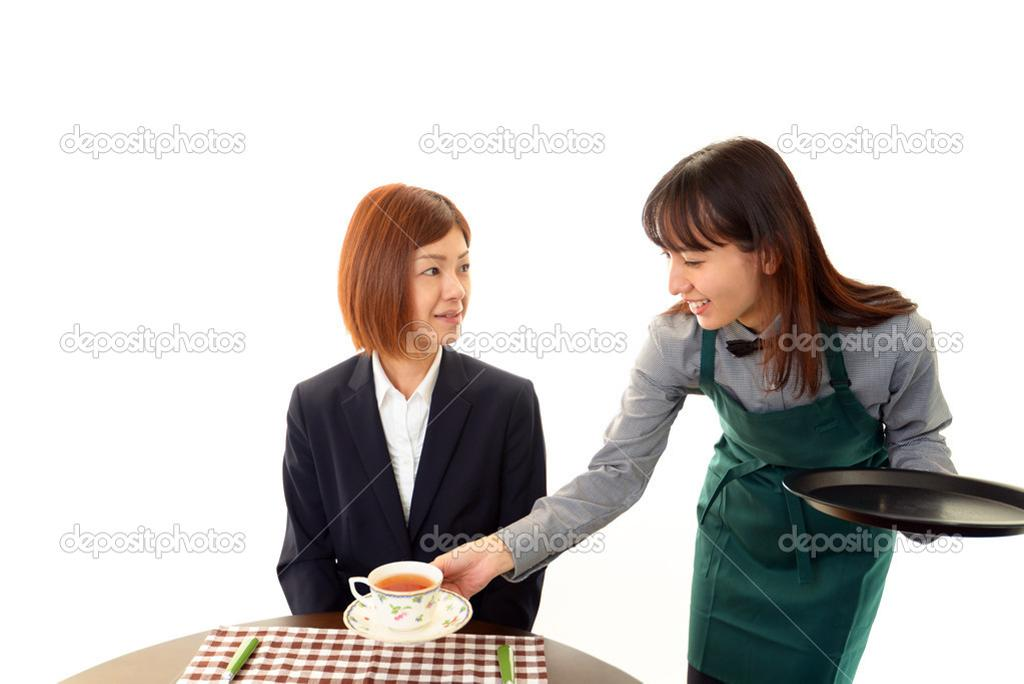face: (666, 194, 756, 338), (404, 212, 470, 346)
